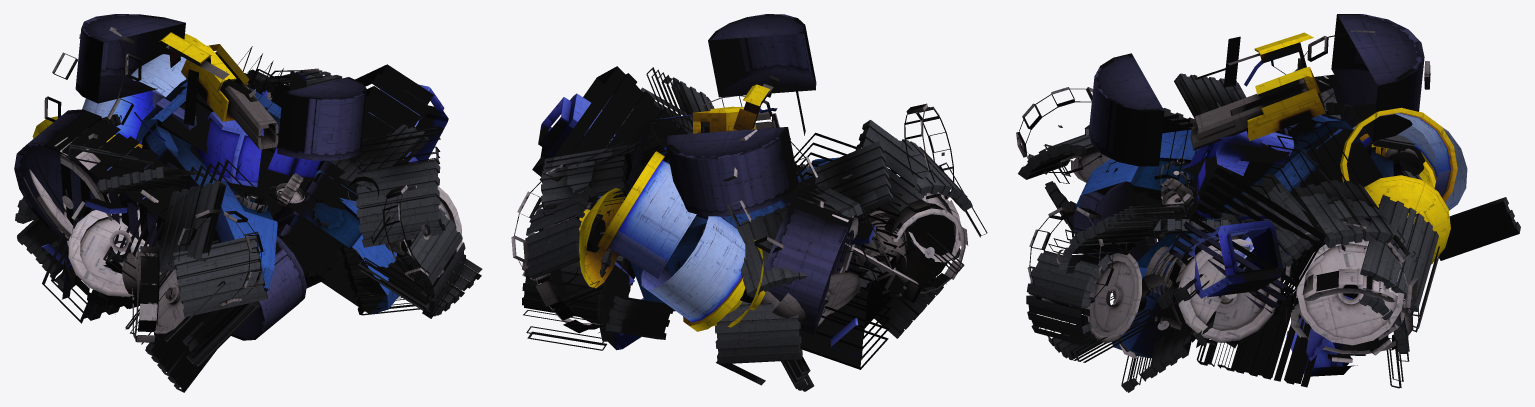
The model's file is PlayerB_die10.obj.
The picture shows the model from 3 angles, left to right: view 1: azimuth 30°, elevation 25°; view 2: azimuth 150°, elevation 25°; view 3: azimuth 270°, elevation 25°; orthographic projection. The views are drawn at different scales.
Visible parts, largest first — view 1: Object005; view 2: Object005; view 3: Object005.
Part boxes in pixels (box(x1,y1,x2,y2)): Object005: box(14, 14, 482, 392); Object005: box(511, 14, 987, 391); Object005: box(1016, 14, 1520, 392).
Size of the model in its own units: 169 by 121 by 188.
2 materials, 2 textured.
